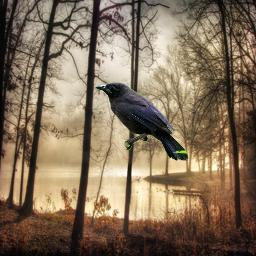Crow: (95, 82, 189, 161)
